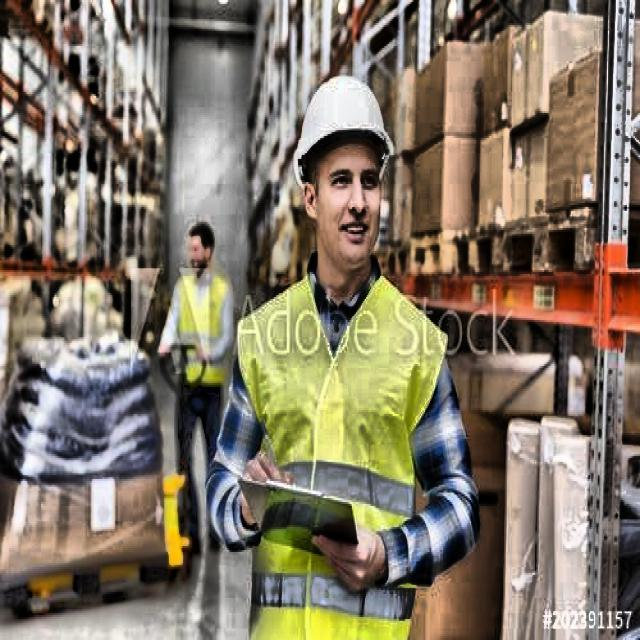safety_helmet: (286, 65, 394, 180)
safety_jacket: (243, 282, 438, 628), (174, 271, 230, 388)
